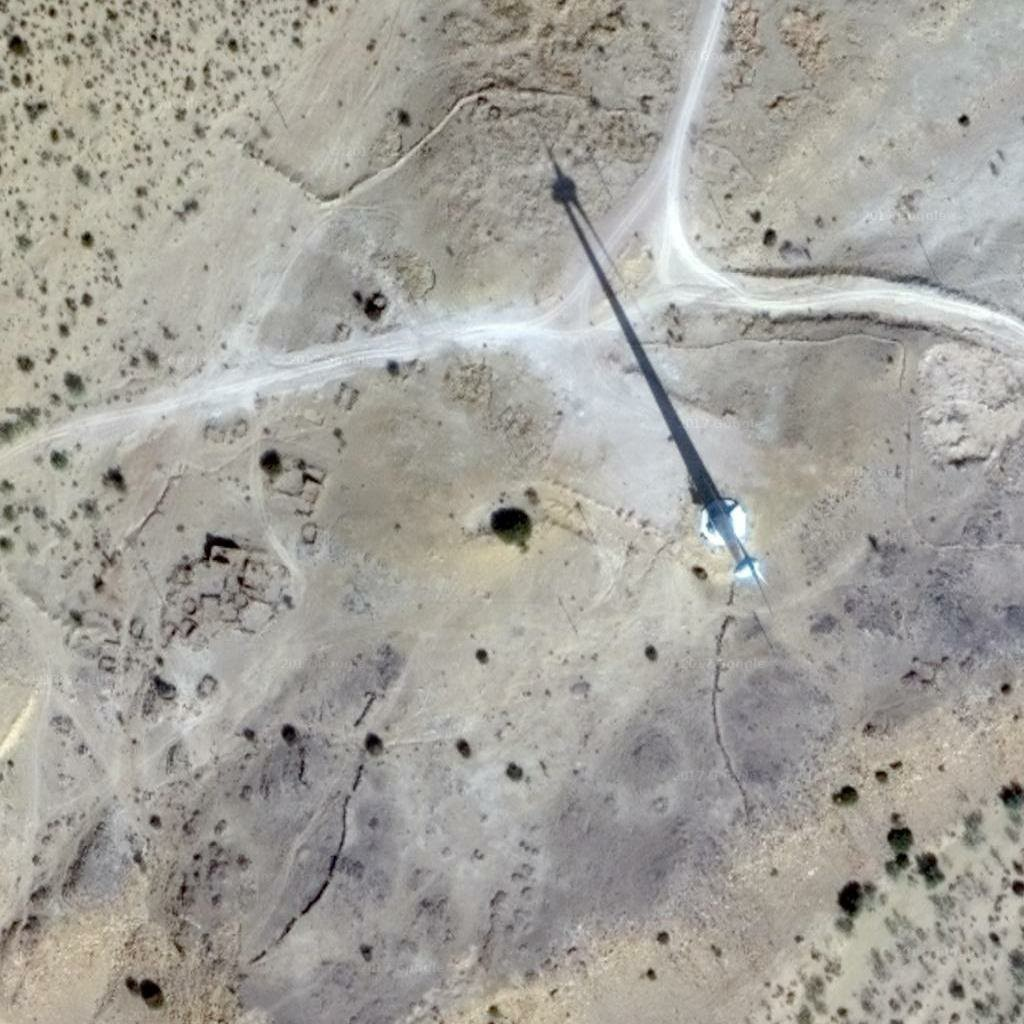Windmill: (529, 130, 737, 513)
